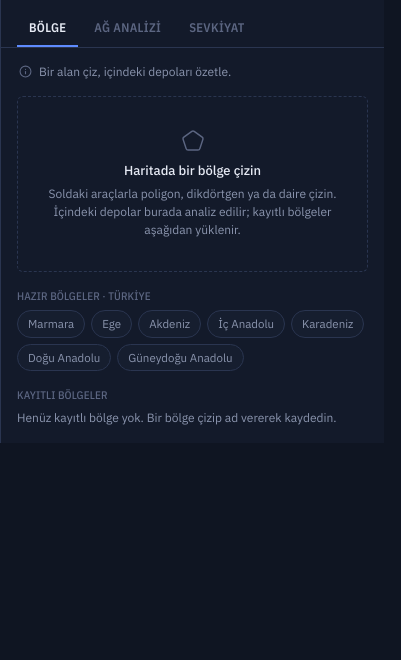
Scenario: AnalysisPanel sekmeleri › Ağ Analizi sekmesi NetworkPanel'i açar, Bölge geri döner
The width and height of the screenshot is (401, 660).
Expected: the text "Haritada bir bölge çizin" is shown, [124, 162, 261, 179]
Click the tab "Ağ Analizi". click: click(128, 28)
box: [82, 10, 173, 47]
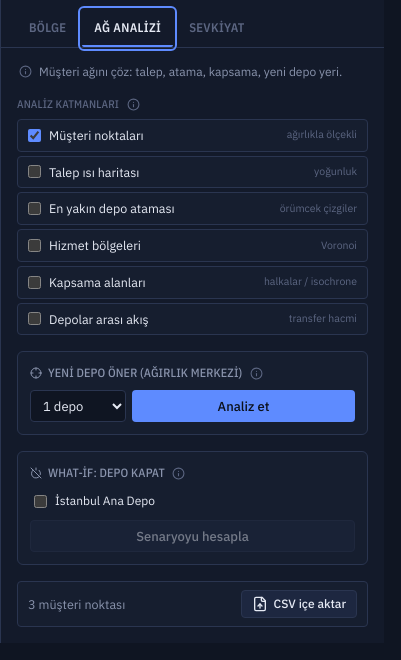
Expected: the heading "Analiz katmanları" is shown, [17, 96, 141, 112]
Expected: the text "Haritada bir bölge çizin" is gone
Click the tab "Bölge". click: click(48, 28)
box: [17, 10, 78, 47]
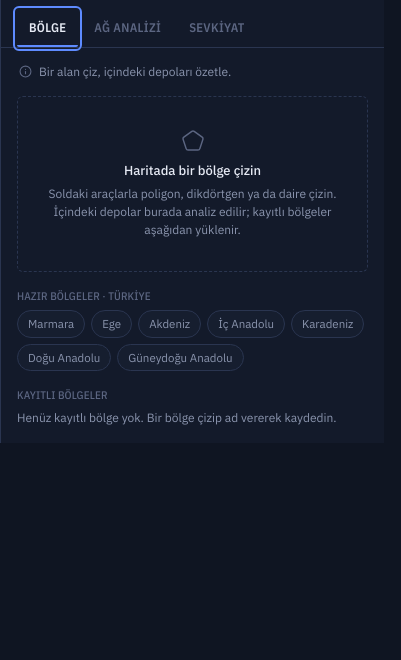
Expected: the text "Haritada bir bölge çizin" is shown, [124, 162, 261, 179]
